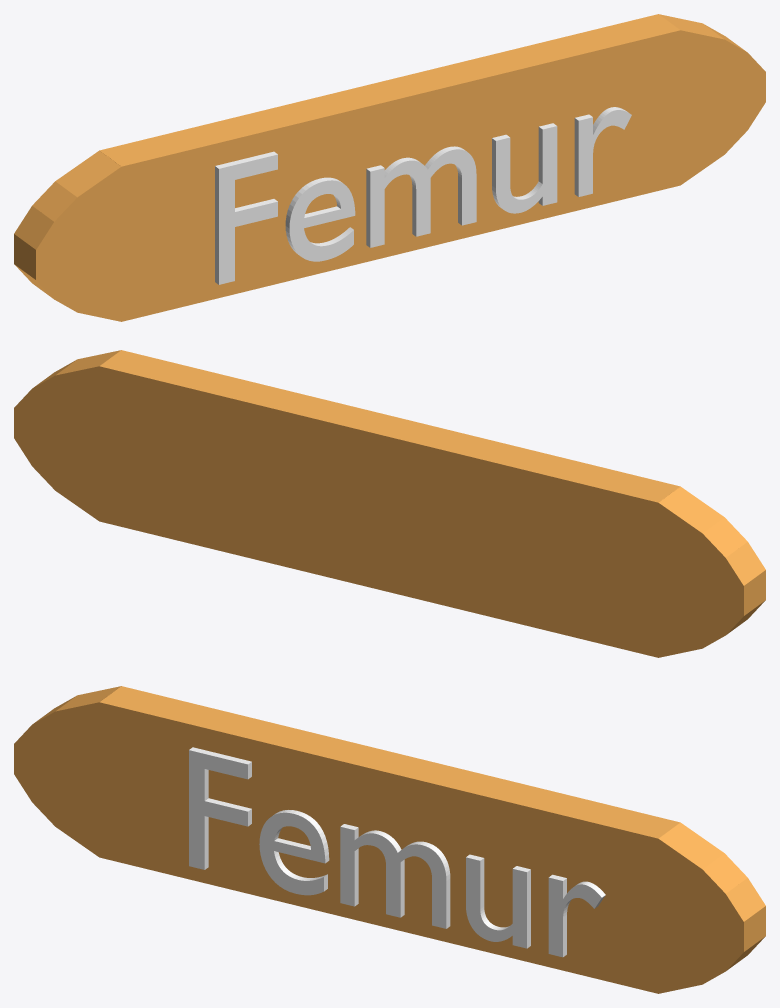
The model's file is txtFemur.fbx.
3 views of the same model, one above another, from view 1: azimuth 30°, elevation 25°; view 2: azimuth 150°, elevation 25°; view 3: azimuth 330°, elevation 25° (orthographic).
Visible parts, largest first — view 1: TagContainer.012, Text.012; view 2: TagContainer.012; view 3: TagContainer.012, Text.012.
Boxes of the visible parts, x1,y1,x2,y2 form: TagContainer.012: (14,14,765,321); Text.012: (215,107,631,284); TagContainer.012: (14,350,765,657); TagContainer.012: (14,686,765,993); Text.012: (189,747,605,957).
Size of the model in its own units: 203 by 41.3 by 12.58.
